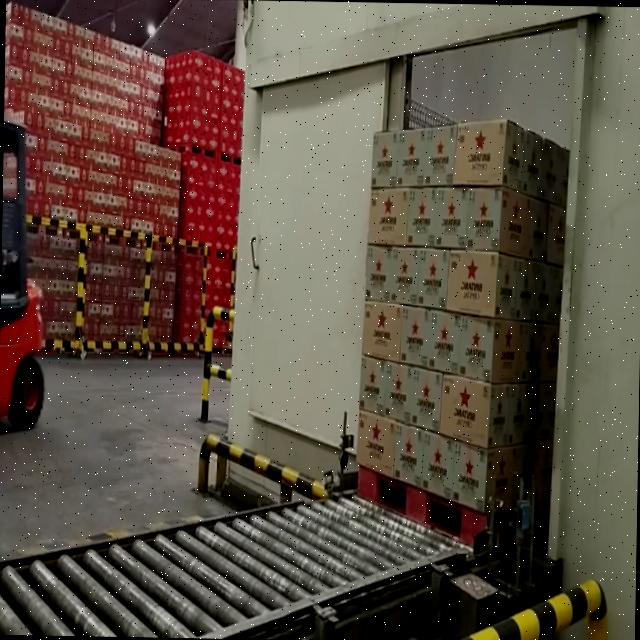pallet: (354, 111, 570, 573)
